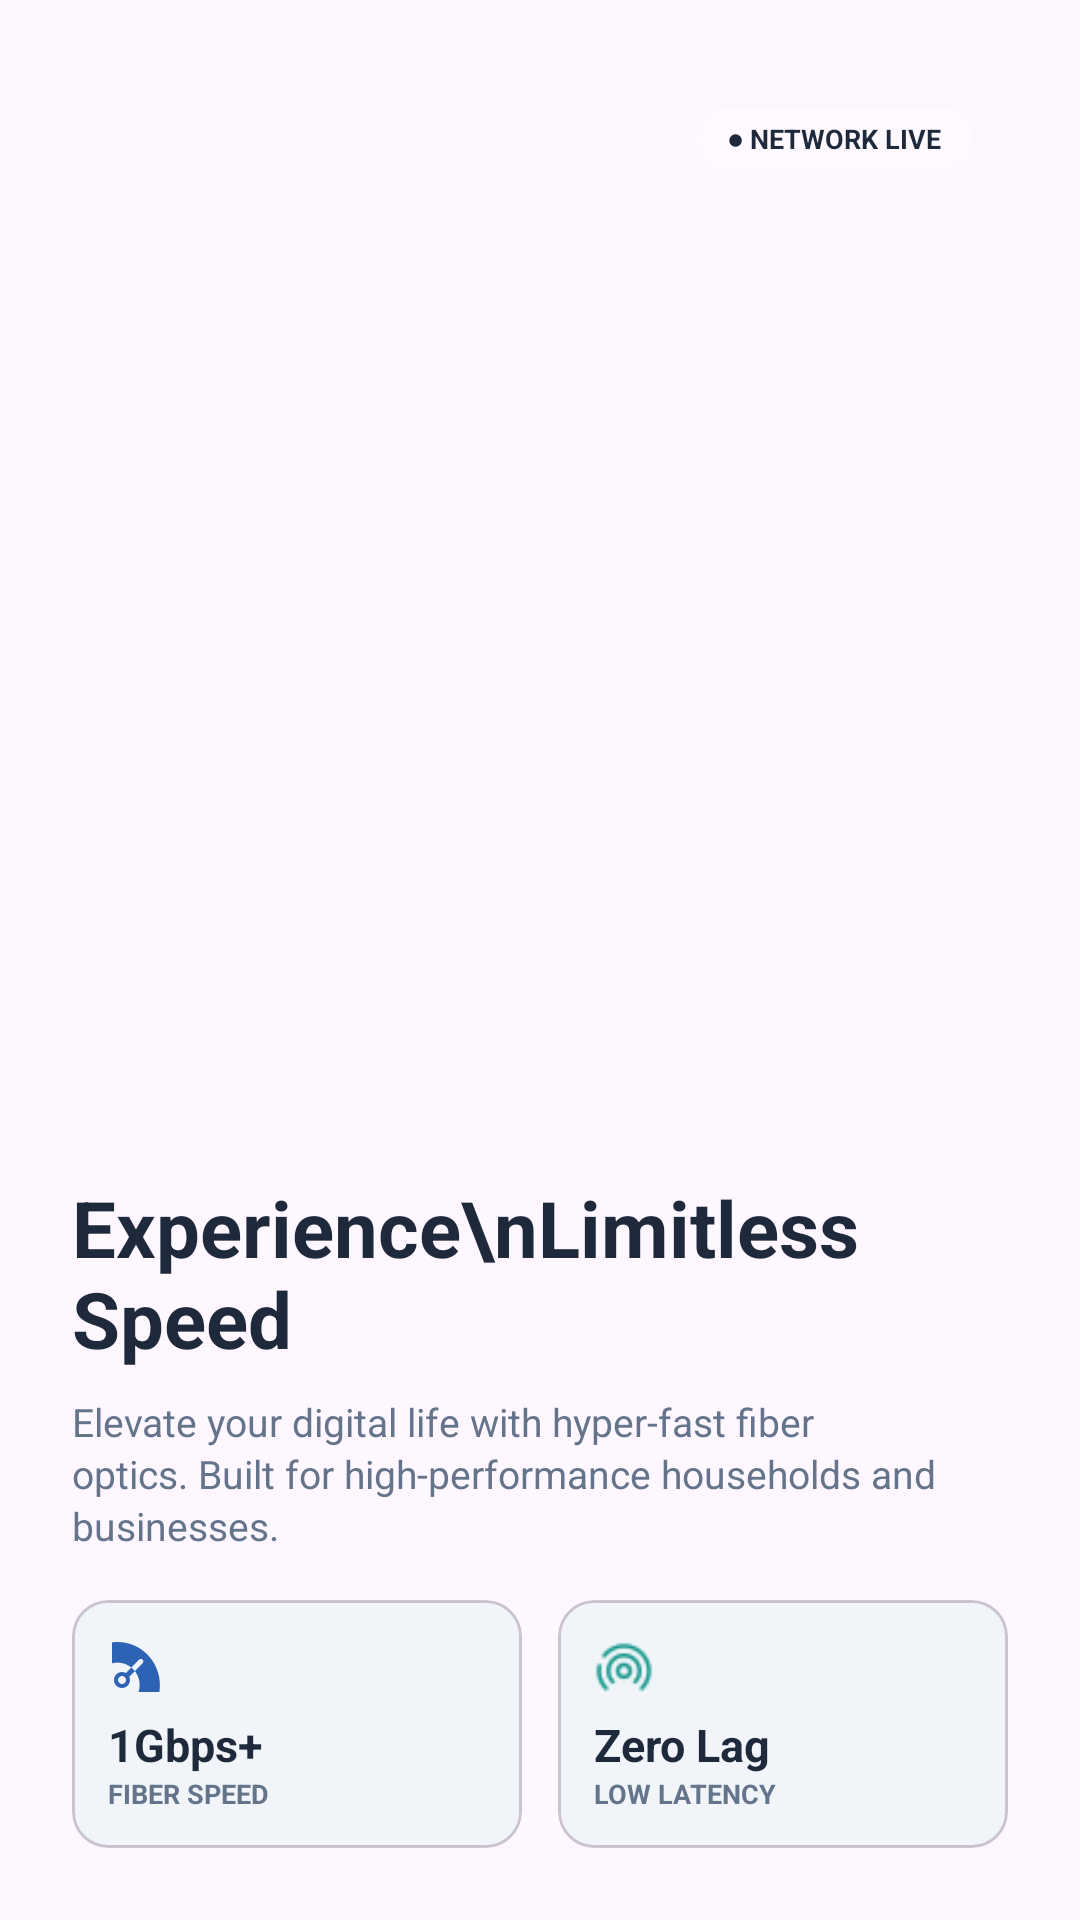

Point at icon controls on the screen. Image size 1080px×1920px, points as [x,y].
wifi tethering: [624,1667]
